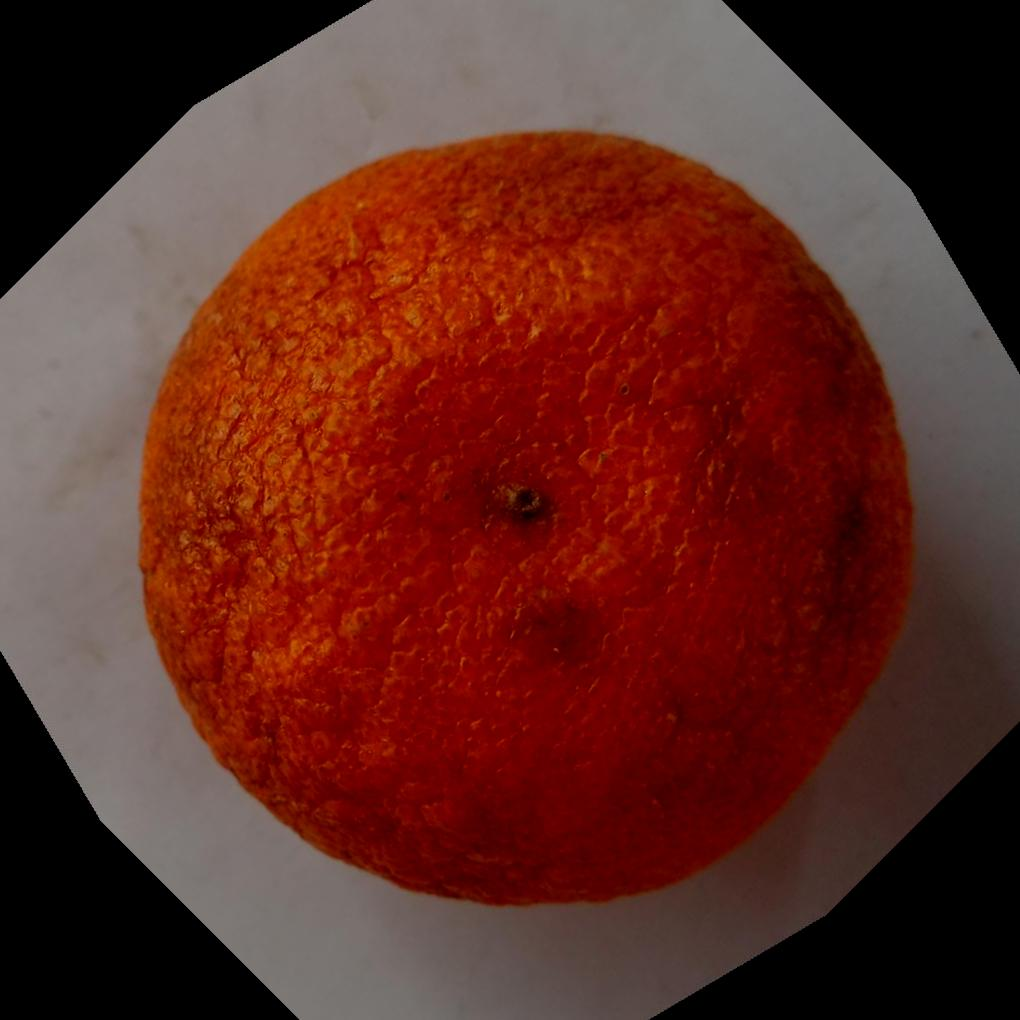FreshOrange: (131, 128, 914, 912)
